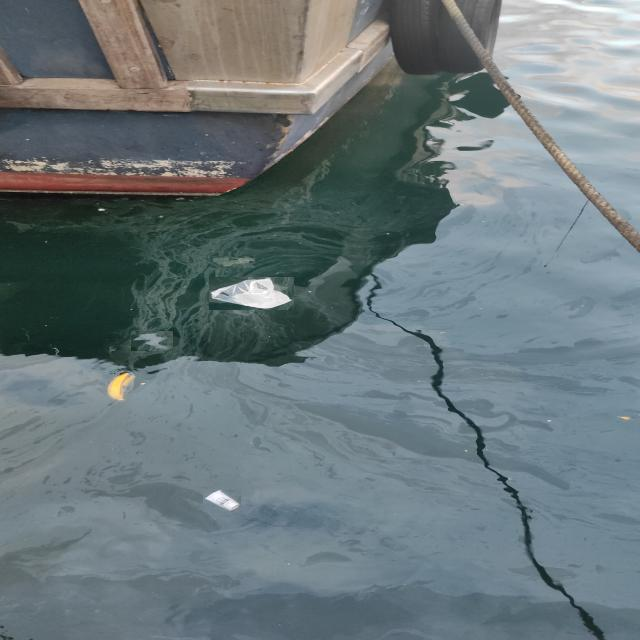Plastic bag: (209, 277, 294, 310), (132, 331, 174, 351), (210, 256, 255, 268)
Plastic cup: (203, 489, 241, 512)
